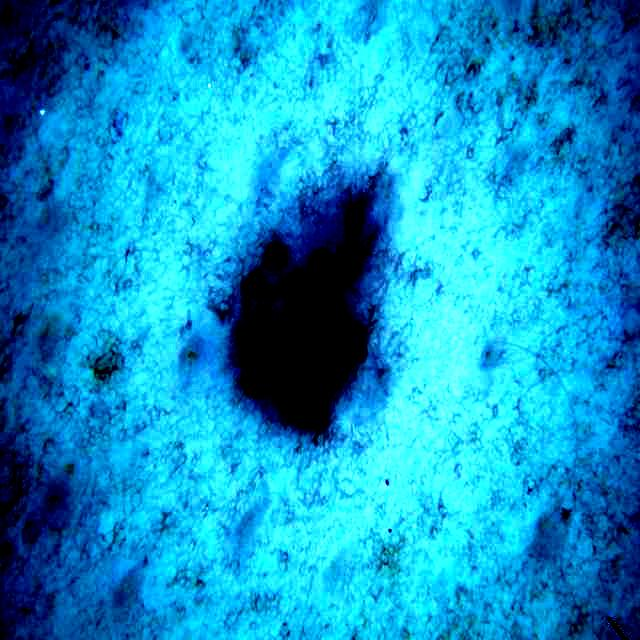BCC: (180, 145, 437, 477)
